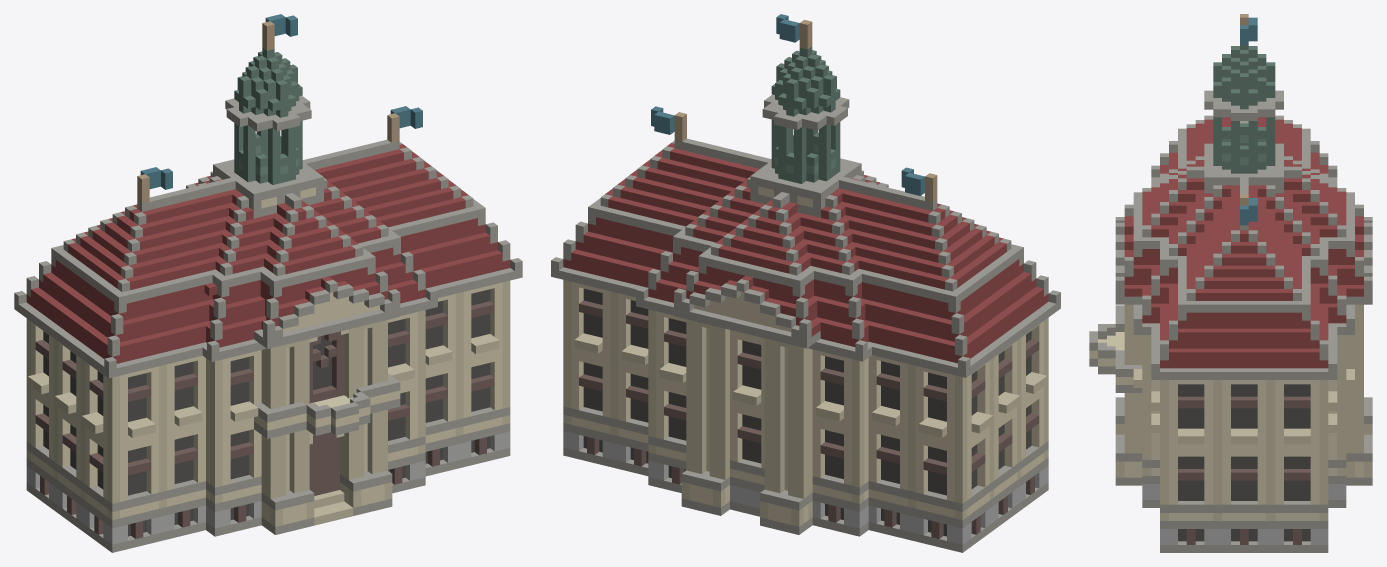
File: townhall.glb
3 views of the same model, side by side, from view 1: azimuth 30°, elevation 25°; view 2: azimuth 150°, elevation 25°; view 3: azimuth 270°, elevation 25° (orthographic). The views are drawn at different scales.
Visible parts, largest first — view 1: Object_2; view 2: Object_2; view 3: Object_2.
Boxes of the visible parts, x1,y1,x2,y2 form: Object_2: [14, 14, 522, 552]; Object_2: [551, 14, 1060, 552]; Object_2: [1089, 14, 1372, 552].
Bounding box in the file's own units: 11.43 × 11.86 × 6.9.
